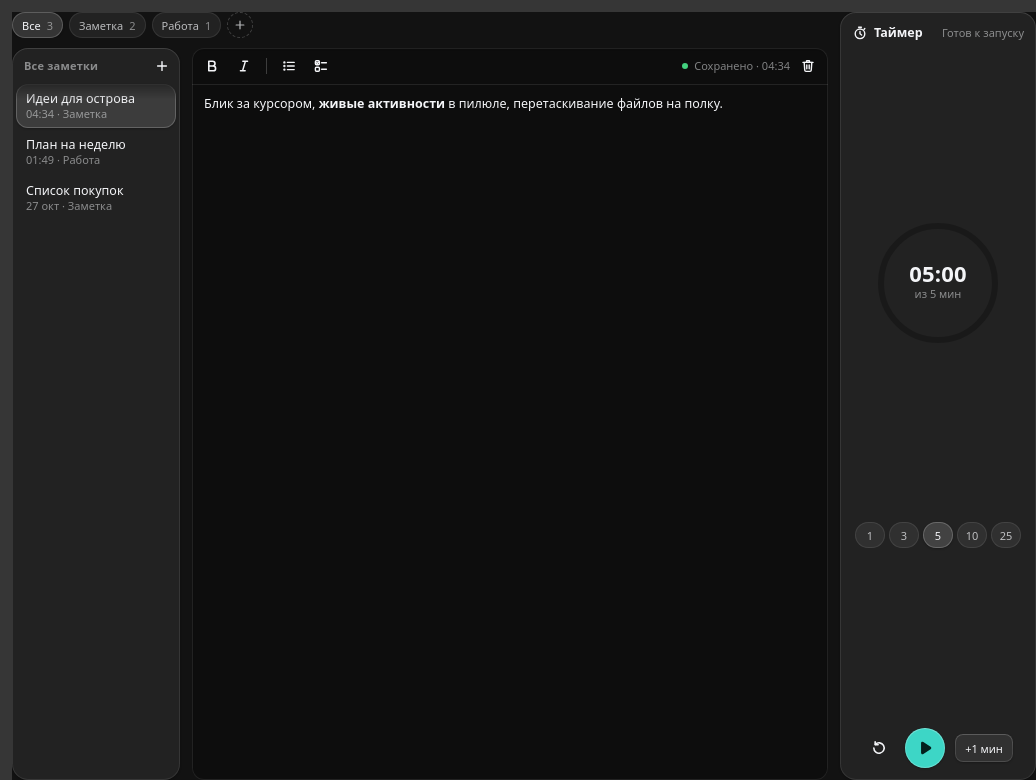
Test case: Notes tab: list, folders, editor › adds a folder through the inline input (Enter) and selects it
Click the button named "Новая папка" at [240, 25], box left=227, top=12, right=253, bottom=38
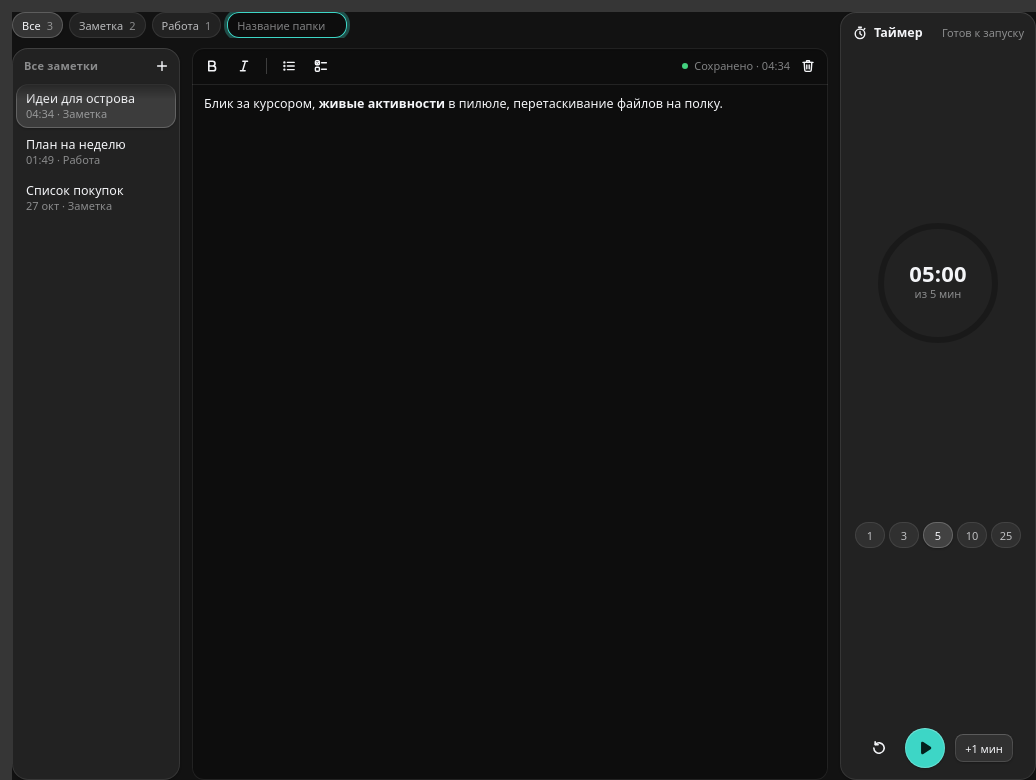
Type "Дом" into the field named "Название новой папки" at [287, 25], box left=227, top=12, right=347, bottom=38
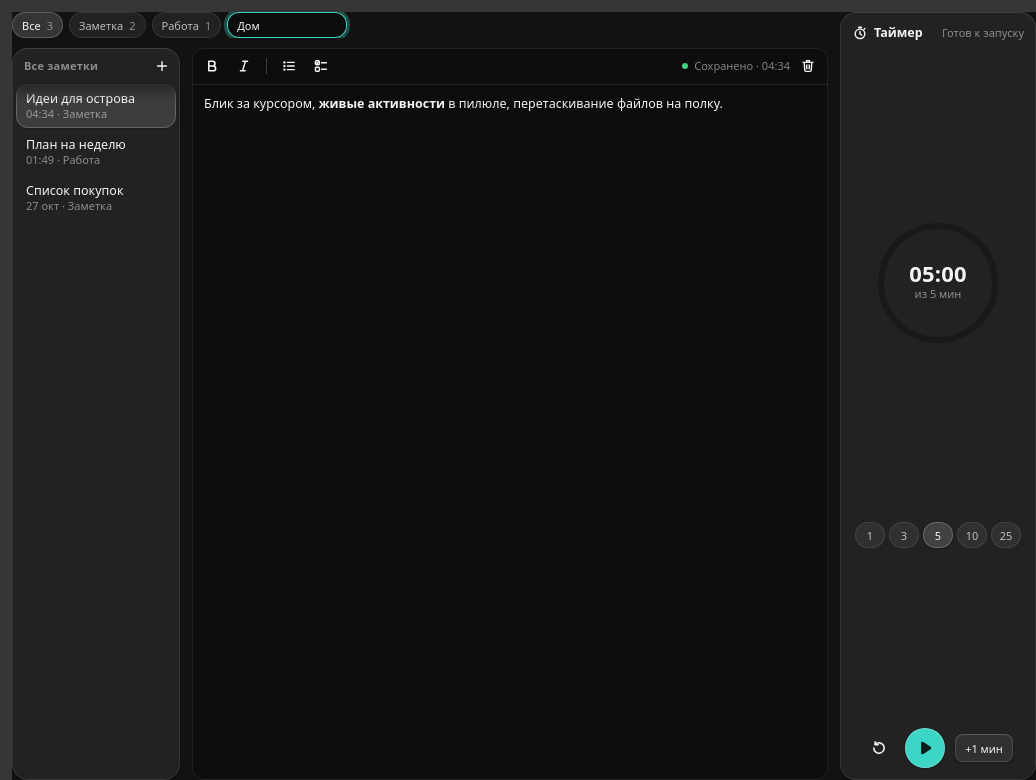
Press Enter in the field named "Название новой папки", box left=227, top=12, right=347, bottom=38
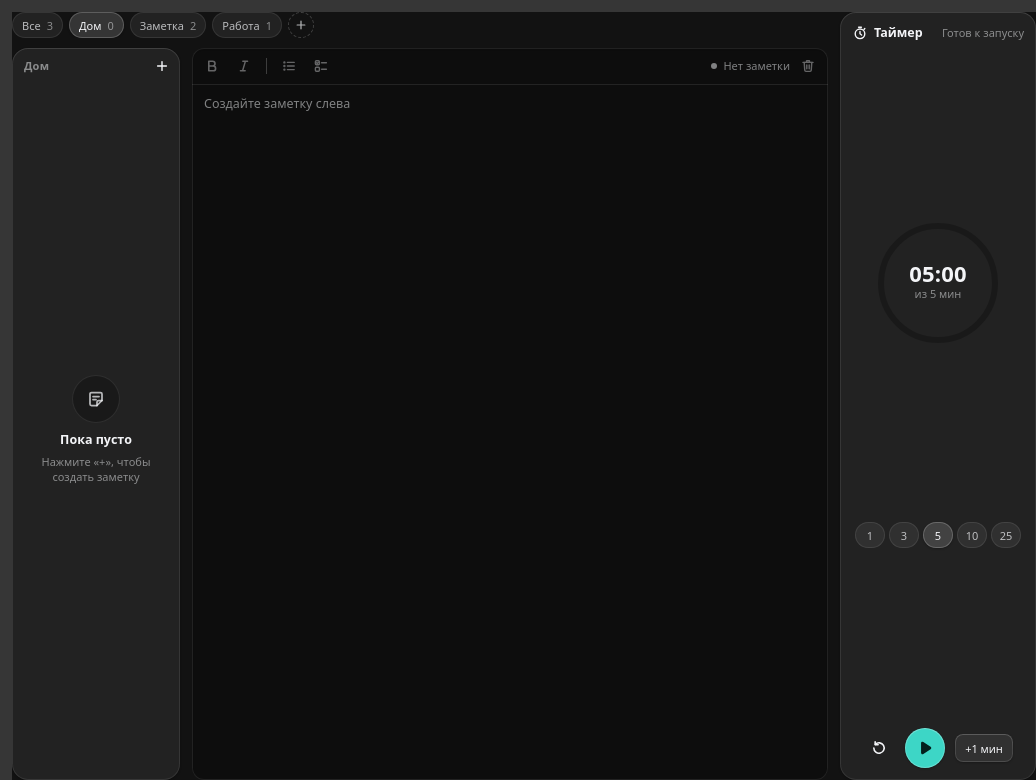
Result: the text "Пока пусто" is shown at left=60, top=431, right=132, bottom=450
Result: the text "Нет заметки" is shown at left=711, top=58, right=790, bottom=74
